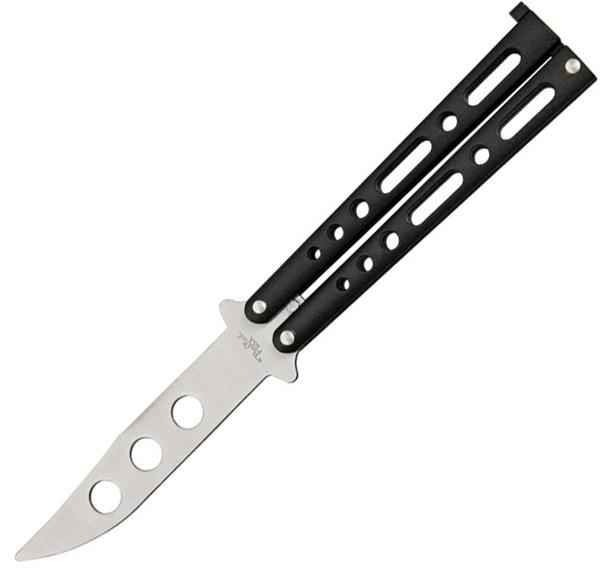knife: (13, 5, 592, 572)
